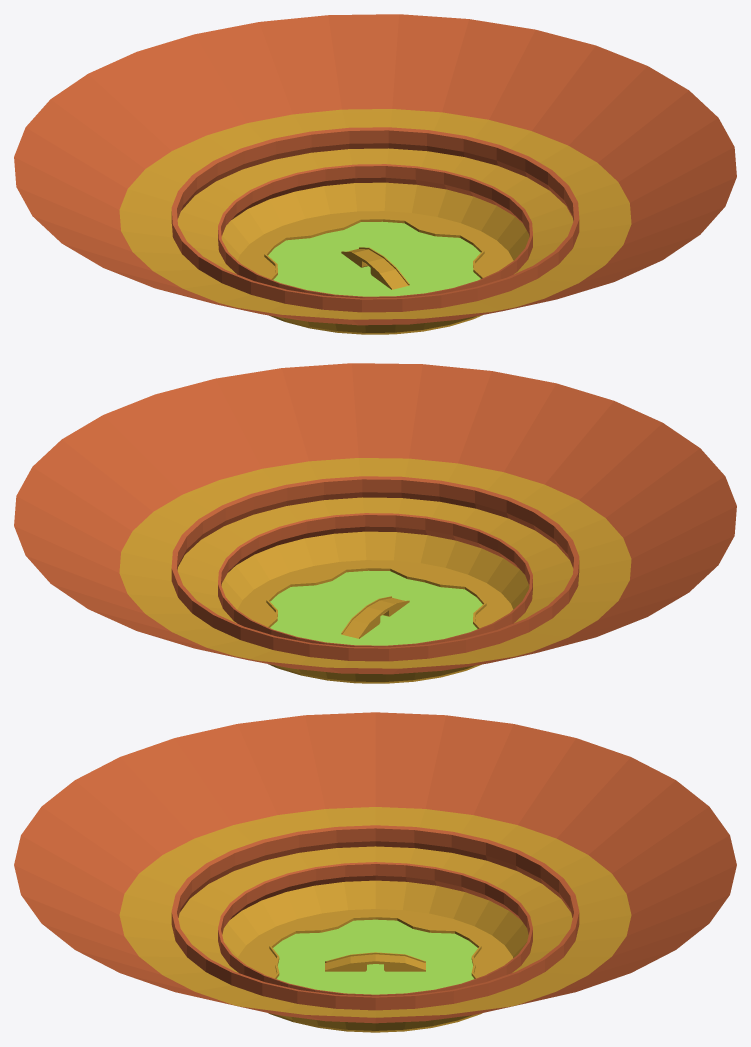
The model's file is Arena.fbx.
3 views of the same model, one above another, from view 1: azimuth 30°, elevation 25°; view 2: azimuth 150°, elevation 25°; view 3: azimuth 270°, elevation 25° (orthographic).
Parts seen in each view (by area): view 1: Circle; view 2: Circle; view 3: Circle.
Boxes of the visible parts, x1,y1,x2,y2 form: Circle: [14, 14, 736, 334]; Circle: [14, 363, 736, 683]; Circle: [14, 712, 736, 1032].
Bounding box in the file's own units: 14524 × 2323 × 14524.
